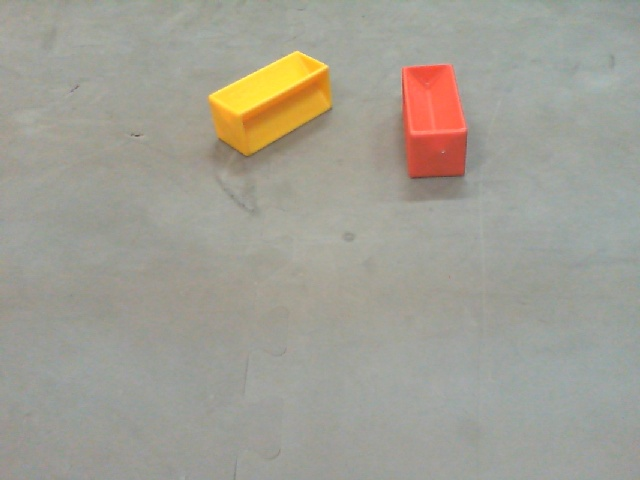RedSample: (398, 61, 470, 184)
YellowSample: (205, 48, 332, 159)
